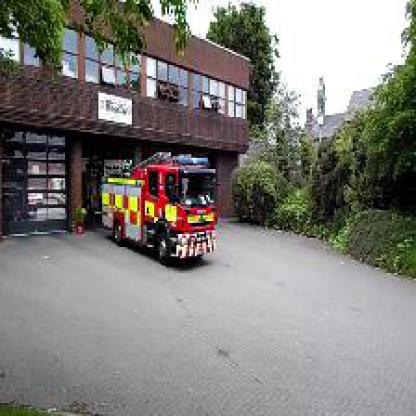emergency: (95, 147, 223, 269)
